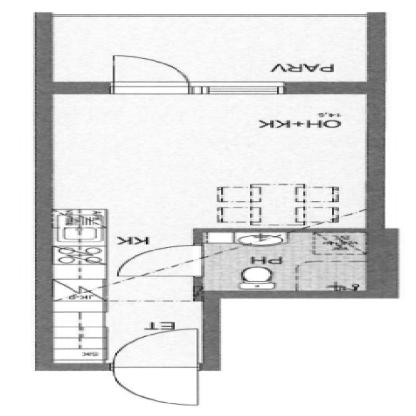door: (110, 327, 212, 410), (112, 244, 210, 281), (110, 54, 192, 96)
window: (200, 87, 281, 95)
zone: (52, 94, 370, 297), (49, 15, 368, 82), (45, 299, 200, 369), (210, 232, 360, 292)
